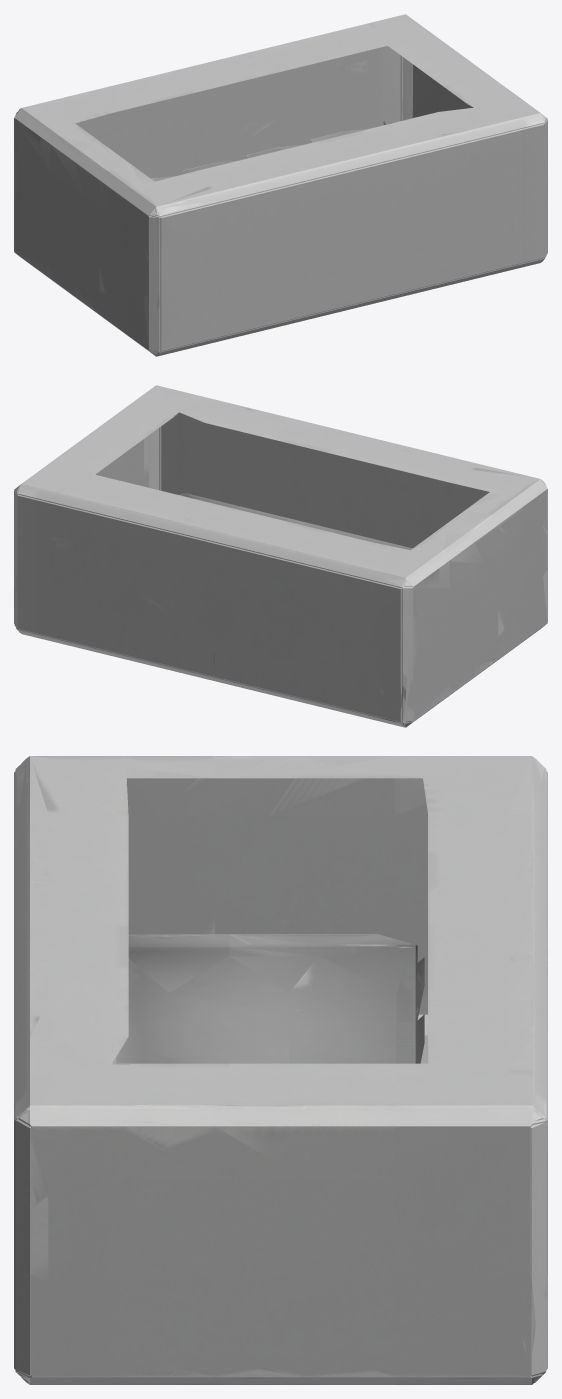
File: basin.fbx
3 renders of one model, top to bottom at view 1: azimuth 30°, elevation 25°; view 2: azimuth 150°, elevation 25°; view 3: azimuth 270°, elevation 25°, orthographic. The views are drawn at different scales.
Parts seen in each view (by area): view 1: Mesh_0; view 2: Mesh_0; view 3: Mesh_0.
Boxes of the visible parts, x1,y1,x2,y2 form: Mesh_0: [14, 14, 547, 356]; Mesh_0: [14, 385, 547, 727]; Mesh_0: [14, 756, 547, 1384].
Size of the model in its own units: 4.45 by 1.6 by 2.77.
1 material, 1 textured.
